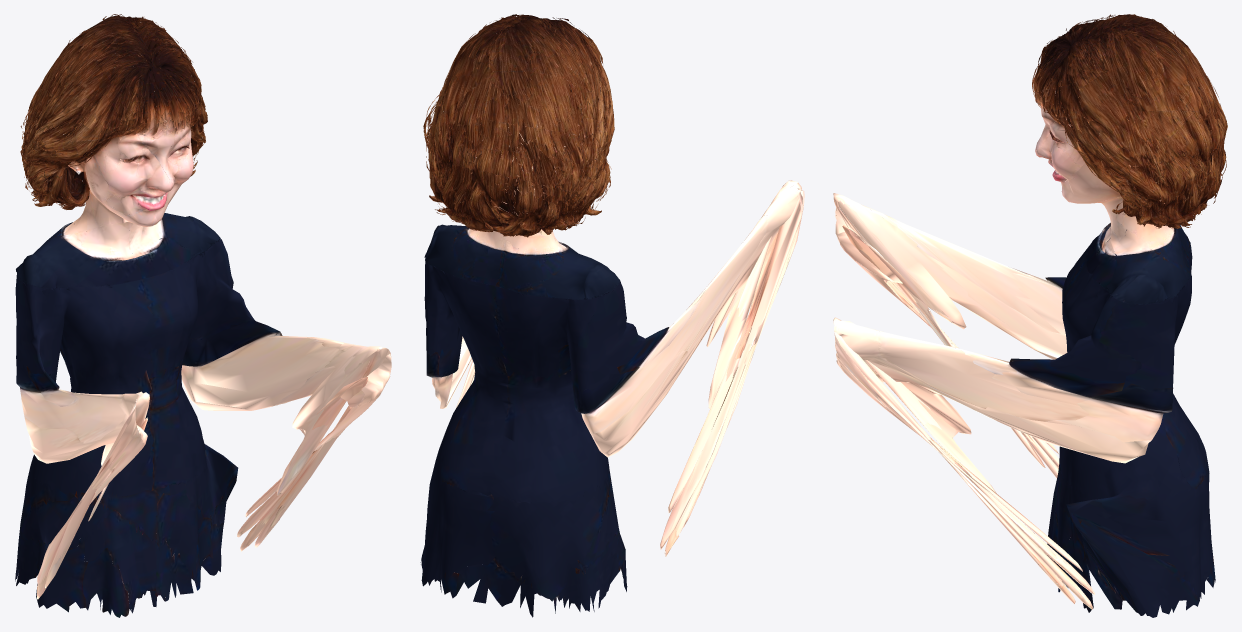
File: vice-yun.glb
3 views of the same model, side by side, from view 1: azimuth 30°, elevation 25°; view 2: azimuth 150°, elevation 25°; view 3: azimuth 270°, elevation 25° (orthographic).
Visible parts, largest first — view 1: vice-yun-운전자; view 2: vice-yun-운전자; view 3: vice-yun-운전자.
Boxes of the visible parts, left/top/right/bottom form: vice-yun-운전자: left=15, top=14, right=391, bottom=617; vice-yun-운전자: left=420, top=14, right=804, bottom=617; vice-yun-운전자: left=833, top=14, right=1227, bottom=617.
Bounding box in the file's own units: 0.5277 × 1.06 × 0.6782.
Materials: 2 (2 with a texture image).
